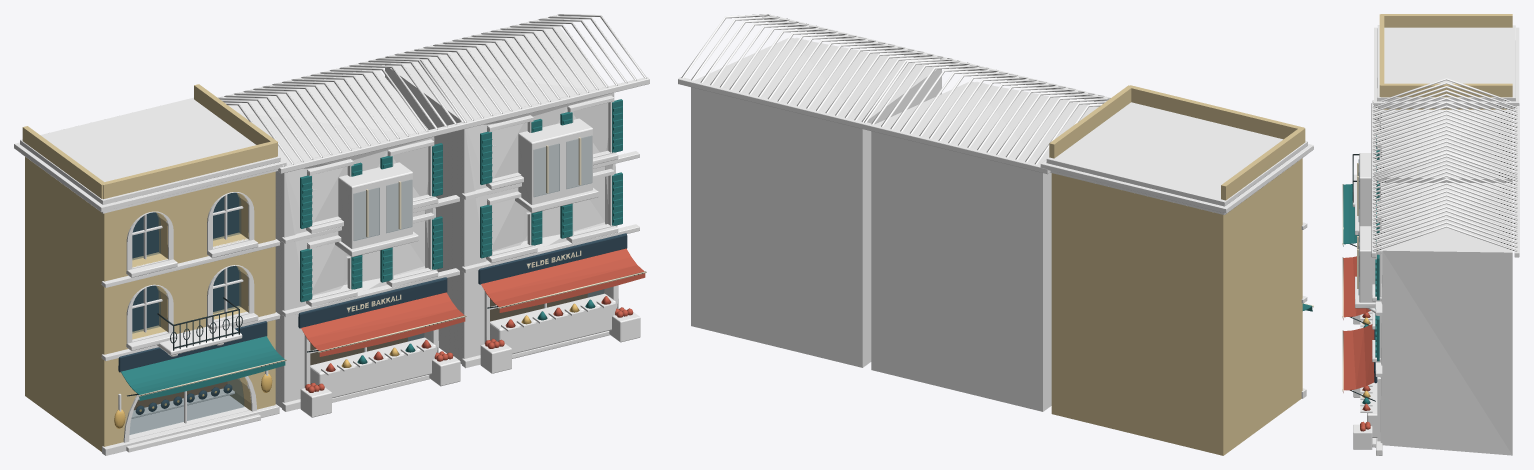
Rendered from DistrictBlock_5_2_LOD1.glb.
3 renders of one model, left to right at view 1: azimuth 30°, elevation 25°; view 2: azimuth 150°, elevation 25°; view 3: azimuth 270°, elevation 25°, orthographic. The views are drawn at different scales.
Visible parts, largest first — view 1: RK_DistrictBlock_5_2_LOD1_LC_Coral, RK_DistrictBlock_5_2_LOD1_LC_Ochre, RK_DistrictBlock_5_2_LOD1_LC_Lime, RK_DistrictBlock_5_2_LOD1_LC_Wood, RK_DistrictBlock_5_2_LOD1_LC_Tile, RK_DistrictBlock_5_2_LOD1_LC_Glass, RK_DistrictBlock_5_2_LOD1_LC_Teal, RK_DistrictBlock_5_2_LOD1_LC_Red, RK_DistrictBlock_5_2_LOD1_LC_Ink, RK_DistrictBlock_5_2_LOD1_LC_Canvas, RK_DistrictBlock_5_2_LOD1_LC_Interior, RK_DistrictBlock_5_2_LOD1_LC_Iron (+1 smaller); view 2: RK_DistrictBlock_5_2_LOD1_LC_Coral, RK_DistrictBlock_5_2_LOD1_LC_Ochre, RK_DistrictBlock_5_2_LOD1_LC_Lime, RK_DistrictBlock_5_2_LOD1_LC_Tile, RK_DistrictBlock_5_2_LOD1_LC_Wood; view 3: RK_DistrictBlock_5_2_LOD1_LC_Coral, RK_DistrictBlock_5_2_LOD1_LC_Tile, RK_DistrictBlock_5_2_LOD1_LC_Lime, RK_DistrictBlock_5_2_LOD1_LC_Wood, RK_DistrictBlock_5_2_LOD1_LC_Ochre, RK_DistrictBlock_5_2_LOD1_LC_Red, RK_DistrictBlock_5_2_LOD1_LC_Teal, RK_DistrictBlock_5_2_LOD1_LC_Canvas, RK_DistrictBlock_5_2_LOD1_LC_Iron.
Part boxes in pixels (box(x1,y1,x2,y2)): RK_DistrictBlock_5_2_LOD1_LC_Coral: box(228, 24, 618, 407); RK_DistrictBlock_5_2_LOD1_LC_Ochre: box(22, 84, 277, 451); RK_DistrictBlock_5_2_LOD1_LC_Lime: box(14, 95, 639, 455); RK_DistrictBlock_5_2_LOD1_LC_Wood: box(118, 15, 649, 439); RK_DistrictBlock_5_2_LOD1_LC_Tile: box(218, 14, 646, 166); RK_DistrictBlock_5_2_LOD1_LC_Glass: box(129, 136, 603, 434); RK_DistrictBlock_5_2_LOD1_LC_Teal: box(121, 99, 622, 400); RK_DistrictBlock_5_2_LOD1_LC_Red: box(301, 248, 645, 392); RK_DistrictBlock_5_2_LOD1_LC_Ink: box(118, 192, 627, 414); RK_DistrictBlock_5_2_LOD1_LC_Canvas: box(138, 137, 646, 396); RK_DistrictBlock_5_2_LOD1_LC_Interior: box(134, 293, 587, 409); RK_DistrictBlock_5_2_LOD1_LC_Iron: box(127, 297, 498, 396); RK_DistrictBlock_5_2_LOD1_LC_Coral: box(691, 37, 1098, 411); RK_DistrictBlock_5_2_LOD1_LC_Ochre: box(1049, 85, 1305, 455); RK_DistrictBlock_5_2_LOD1_LC_Lime: box(795, 37, 1313, 398); RK_DistrictBlock_5_2_LOD1_LC_Tile: box(681, 14, 1110, 164); RK_DistrictBlock_5_2_LOD1_LC_Wood: box(678, 15, 1110, 174); RK_DistrictBlock_5_2_LOD1_LC_Coral: box(1380, 109, 1512, 455); RK_DistrictBlock_5_2_LOD1_LC_Tile: box(1372, 78, 1517, 251); RK_DistrictBlock_5_2_LOD1_LC_Lime: box(1352, 25, 1519, 455); RK_DistrictBlock_5_2_LOD1_LC_Wood: box(1353, 103, 1519, 449); RK_DistrictBlock_5_2_LOD1_LC_Ochre: box(1379, 14, 1512, 109); RK_DistrictBlock_5_2_LOD1_LC_Red: box(1343, 256, 1374, 431); RK_DistrictBlock_5_2_LOD1_LC_Teal: box(1343, 135, 1379, 404); RK_DistrictBlock_5_2_LOD1_LC_Canvas: box(1342, 163, 1358, 391); RK_DistrictBlock_5_2_LOD1_LC_Iron: box(1350, 154, 1375, 401).
Size of the model in its own units: 19.16 by 9.34 by 6.44.
